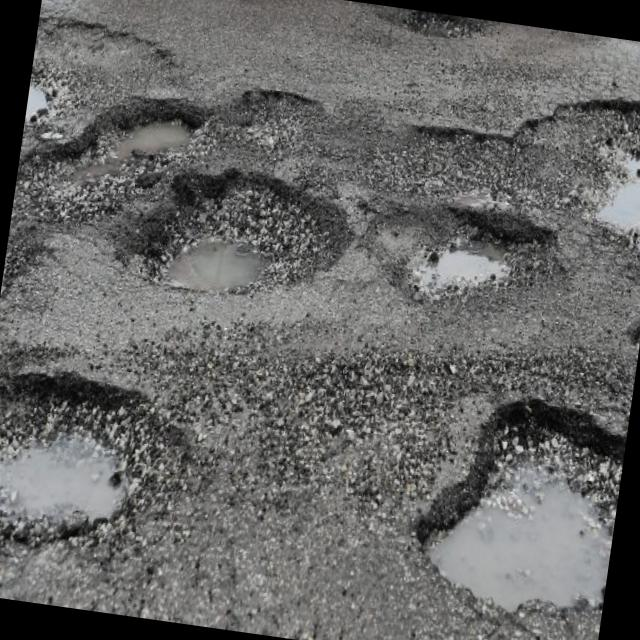Potholes: (0, 93, 396, 351), (385, 361, 633, 640), (0, 352, 223, 573), (453, 63, 640, 270), (355, 189, 547, 345)
